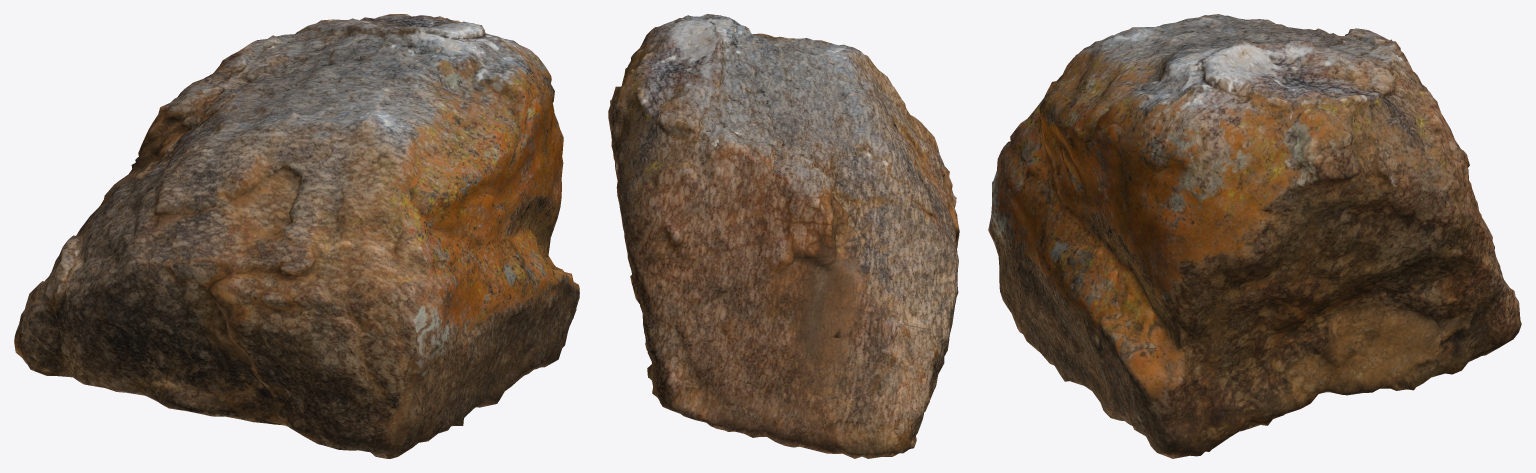
The model's file is prop_boulder_real.glb.
3 views of the same model, side by side, from view 1: azimuth 30°, elevation 25°; view 2: azimuth 150°, elevation 25°; view 3: azimuth 270°, elevation 25° (orthographic). The views are drawn at different scales.
Visible parts, largest first — view 1: boulder_04; view 2: boulder_04; view 3: boulder_04.
Part boxes in pixels (box(x1,y1,x2,y2)): boulder_04: box(14, 14, 579, 458); boulder_04: box(608, 14, 959, 458); boulder_04: box(988, 14, 1521, 458).
Size of the model in its own units: 2.53 by 1.9 by 2.5.
Materials: 1 (1 with a texture image).
